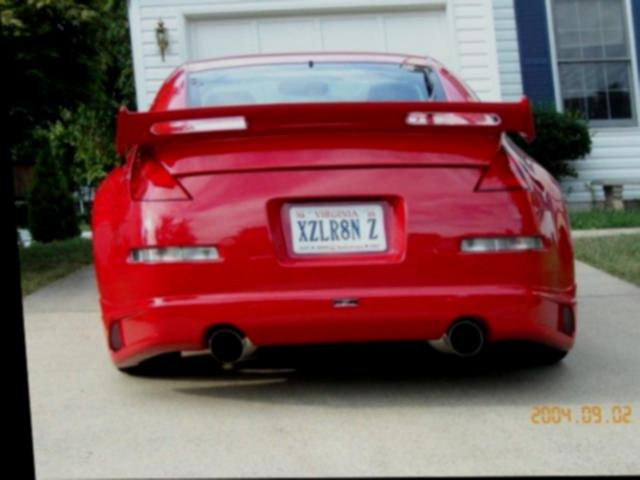License_Plate: (282, 201, 400, 258)
